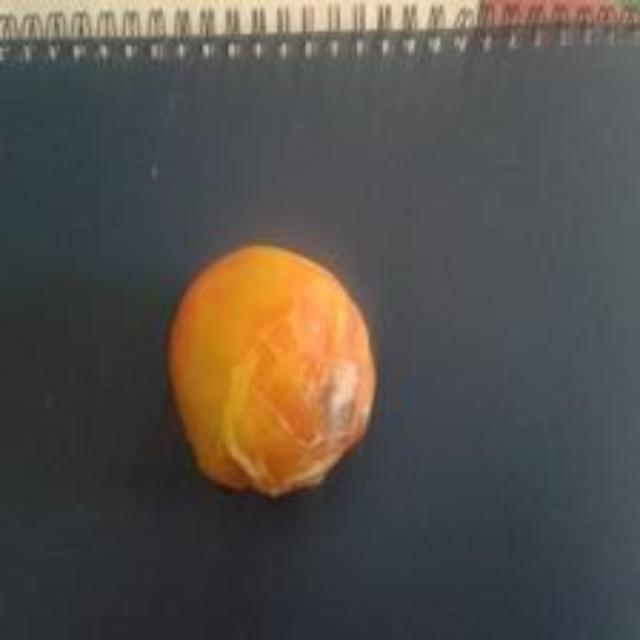defect: (165, 241, 379, 503)
